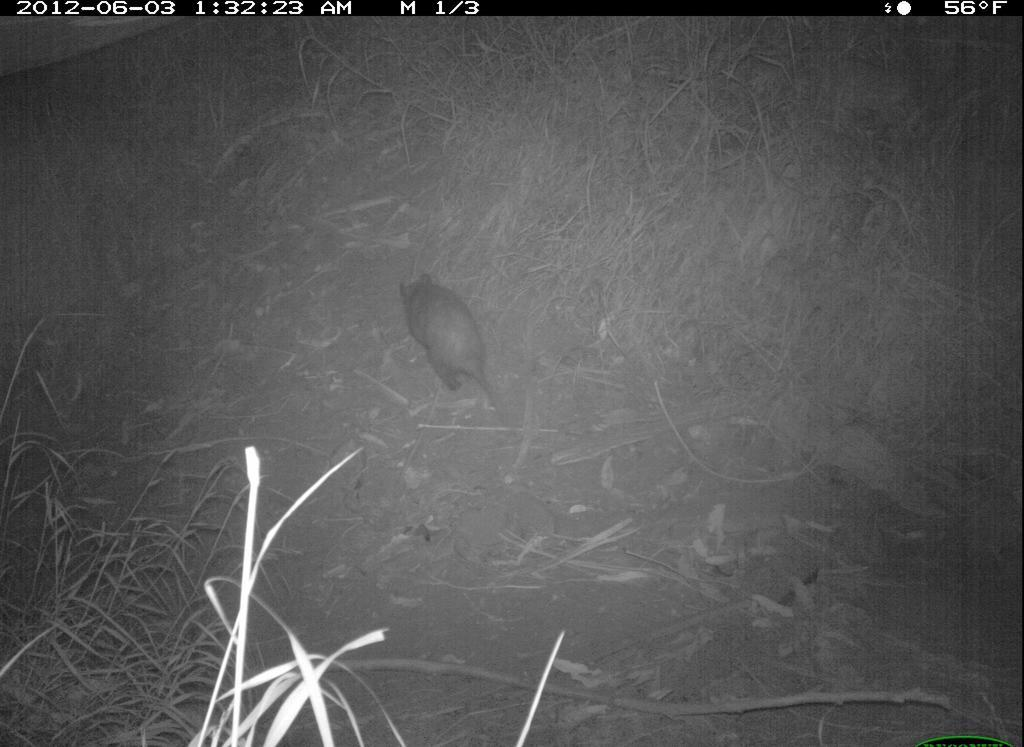opossum: (397, 264, 510, 424)
